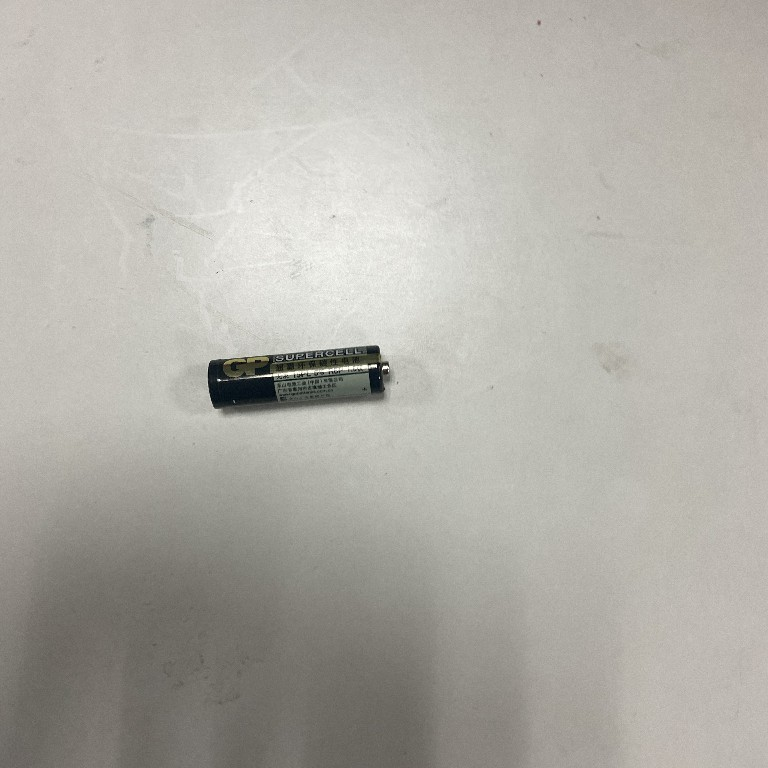charge: (203, 341, 395, 414)
